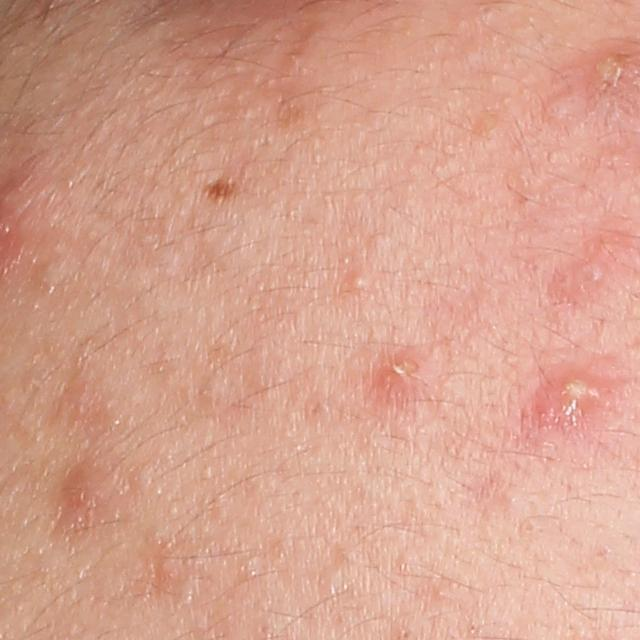comedo: (34, 256, 76, 295), (543, 94, 570, 122), (347, 275, 367, 291)
nevus: (203, 176, 238, 200)
papule: (561, 255, 611, 296), (64, 471, 103, 519)
pustule: (527, 370, 608, 427), (382, 352, 435, 396)
